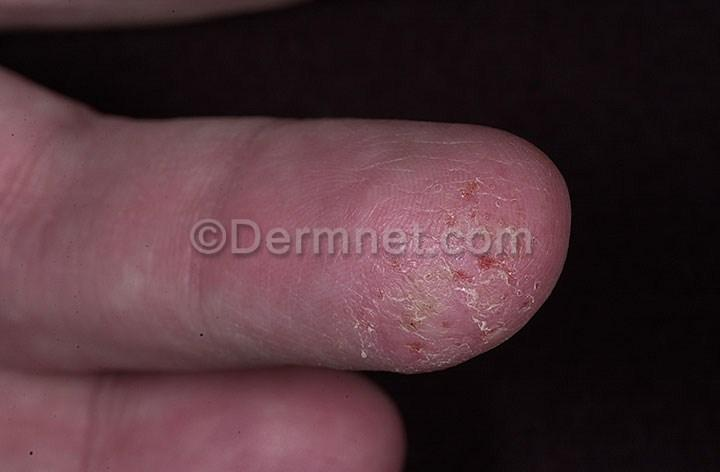Eczema: (342, 261, 552, 373), (359, 139, 574, 221)
